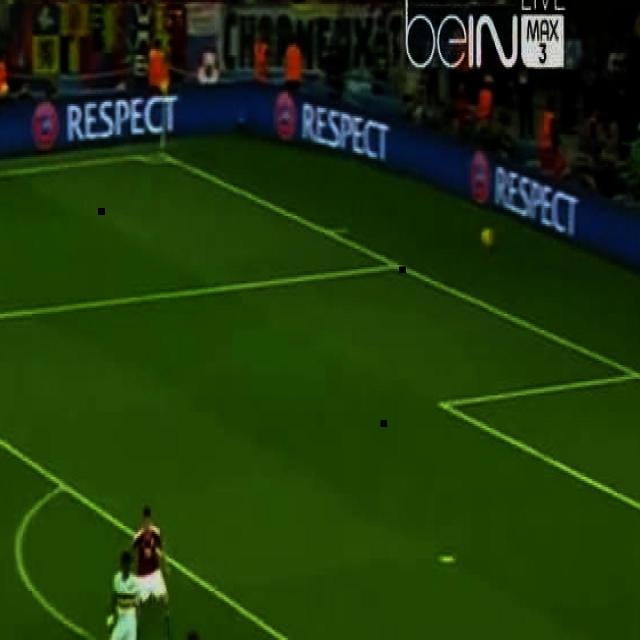ball: (482, 228, 496, 248)
player-white: (130, 505, 178, 640), (104, 550, 142, 640), (178, 631, 221, 640)
